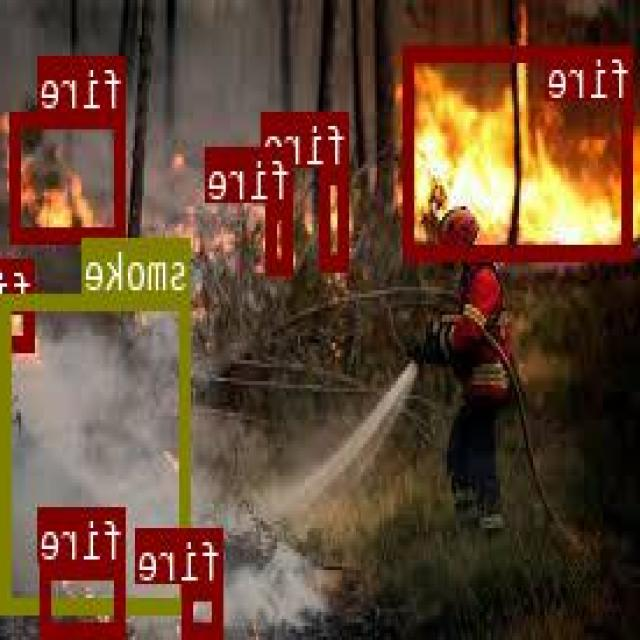fire: (406, 42, 636, 256), (13, 110, 127, 238), (44, 563, 128, 633), (324, 166, 352, 269), (4, 258, 36, 346), (186, 582, 224, 633), (268, 201, 294, 271)
smoke: (4, 292, 192, 608)
